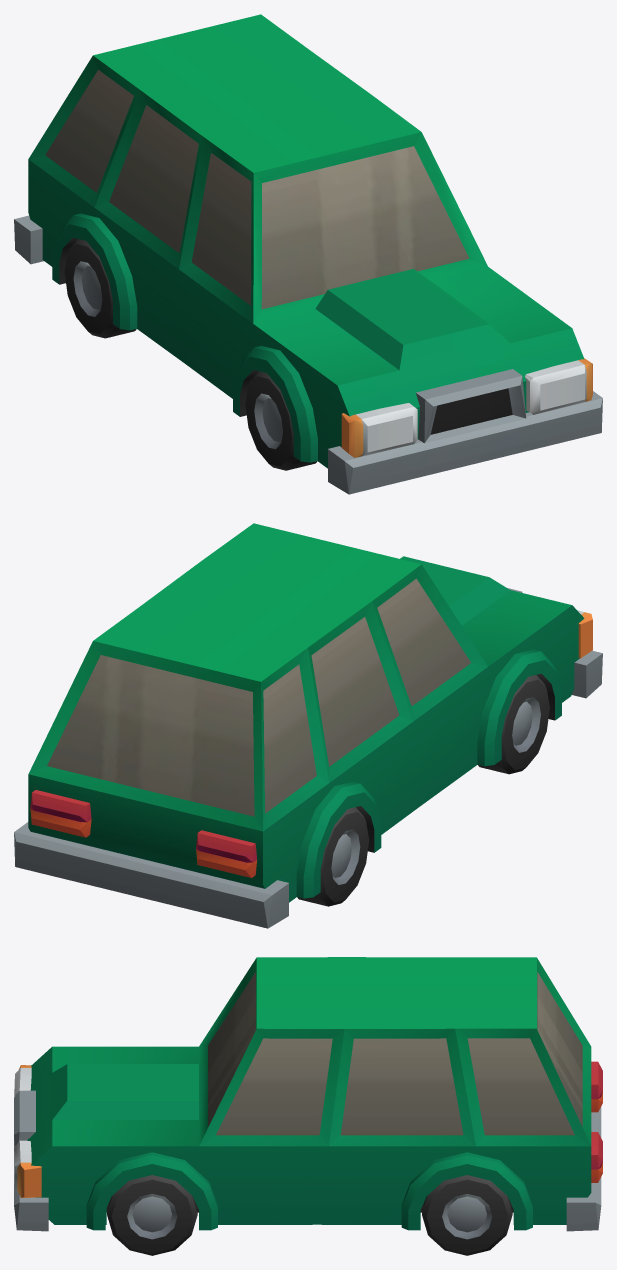
The model's file is stationwagon.glb.
The picture shows the model from 3 angles, top to bottom: view 1: azimuth 30°, elevation 25°; view 2: azimuth 150°, elevation 25°; view 3: azimuth 270°, elevation 25°; orthographic projection. The views are drawn at different scales.
Visible parts, largest first — view 1: car_stationwagon, car_stationwagon_wheel_front_right, car_stationwagon_wheel_rear_right; view 2: car_stationwagon, car_stationwagon_wheel_rear_right, car_stationwagon_wheel_front_right; view 3: car_stationwagon, car_stationwagon_wheel_front_left, car_stationwagon_wheel_rear_left.
Part boxes in pixels (box(x1,y1,x2,y2)): car_stationwagon: box(14, 14, 602, 494); car_stationwagon_wheel_front_right: box(245, 371, 317, 470); car_stationwagon_wheel_rear_right: box(64, 239, 136, 338); car_stationwagon: box(14, 523, 602, 928); car_stationwagon_wheel_rear_right: box(297, 807, 369, 906); car_stationwagon_wheel_front_right: box(478, 675, 549, 774); car_stationwagon: box(14, 957, 602, 1231); car_stationwagon_wheel_front_left: box(107, 1175, 197, 1255); car_stationwagon_wheel_rear_left: box(422, 1175, 512, 1255).
Bounding box in the file's own units: 0.4189 × 0.3688 × 0.9381.
Materials: 1 (1 with a texture image).
